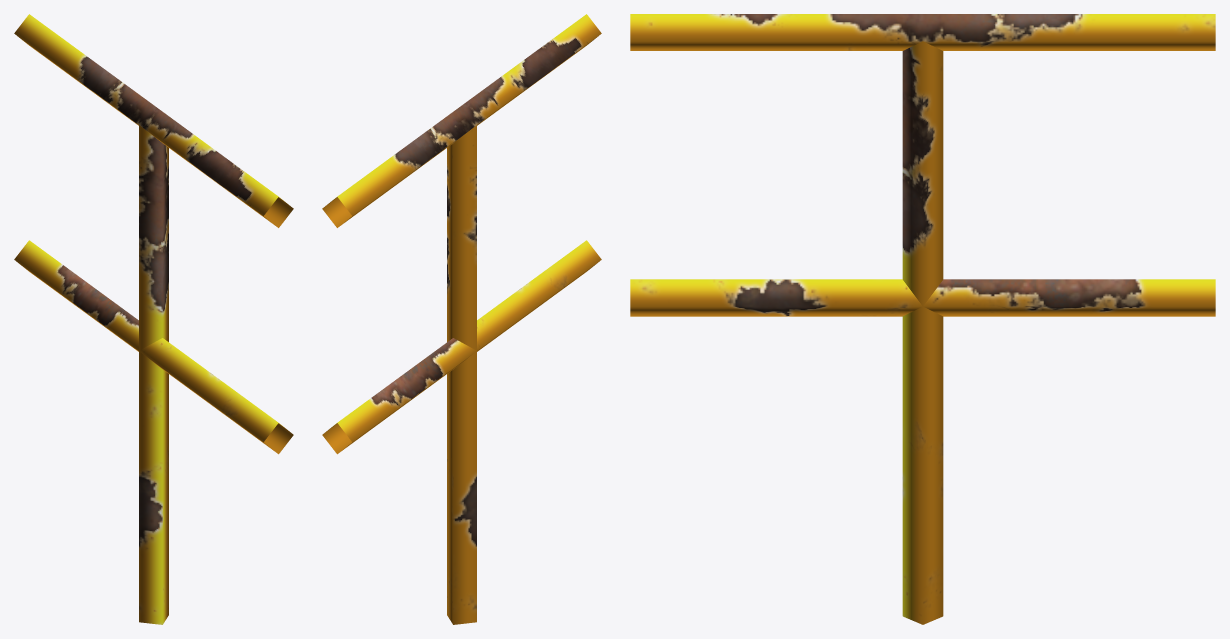
Rendered from safetyRail_1m.fbx.
3 renders of one model, left to right at view 1: azimuth 30°, elevation 25°; view 2: azimuth 150°, elevation 25°; view 3: azimuth 270°, elevation 25°, orthographic. The views are drawn at different scales.
Parts seen in each view (by area): view 1: safetyRail_1m; view 2: safetyRail_1m; view 3: safetyRail_1m.
Boxes of the visible parts, x1,y1,x2,y2 form: safetyRail_1m: (14, 14, 293, 624); safetyRail_1m: (322, 14, 601, 624); safetyRail_1m: (630, 14, 1215, 624).
Size of the model in its own units: 7 by 113 by 100.
